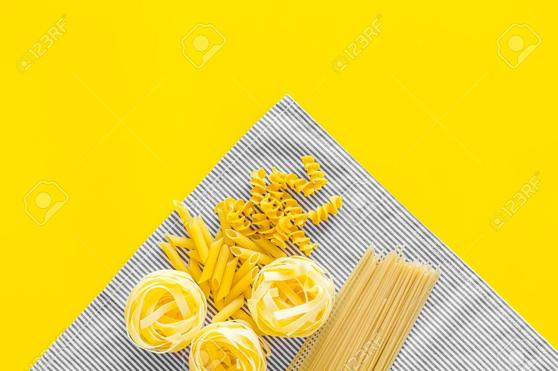spaghetti: (315, 245, 439, 371), (230, 149, 359, 252), (139, 218, 248, 305)
